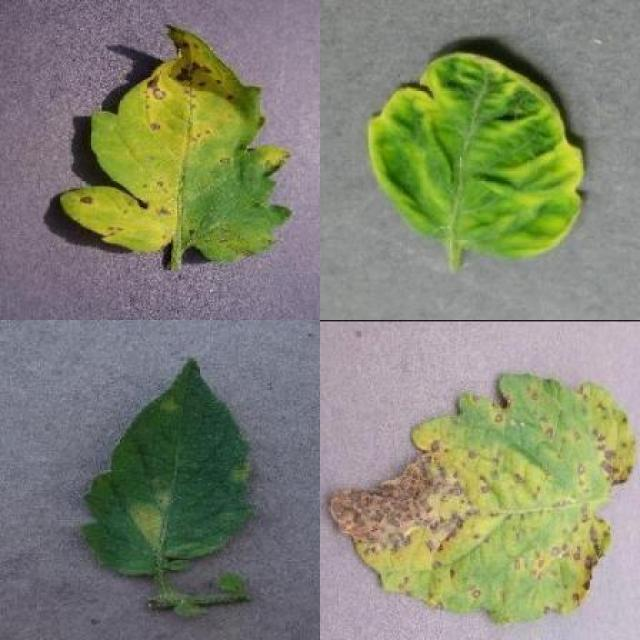Leaf Mold: (82, 353, 259, 578)
Septoria: (328, 371, 638, 623), (64, 22, 292, 265)
Yellow Leaf Curl Virus: (367, 50, 587, 259)
